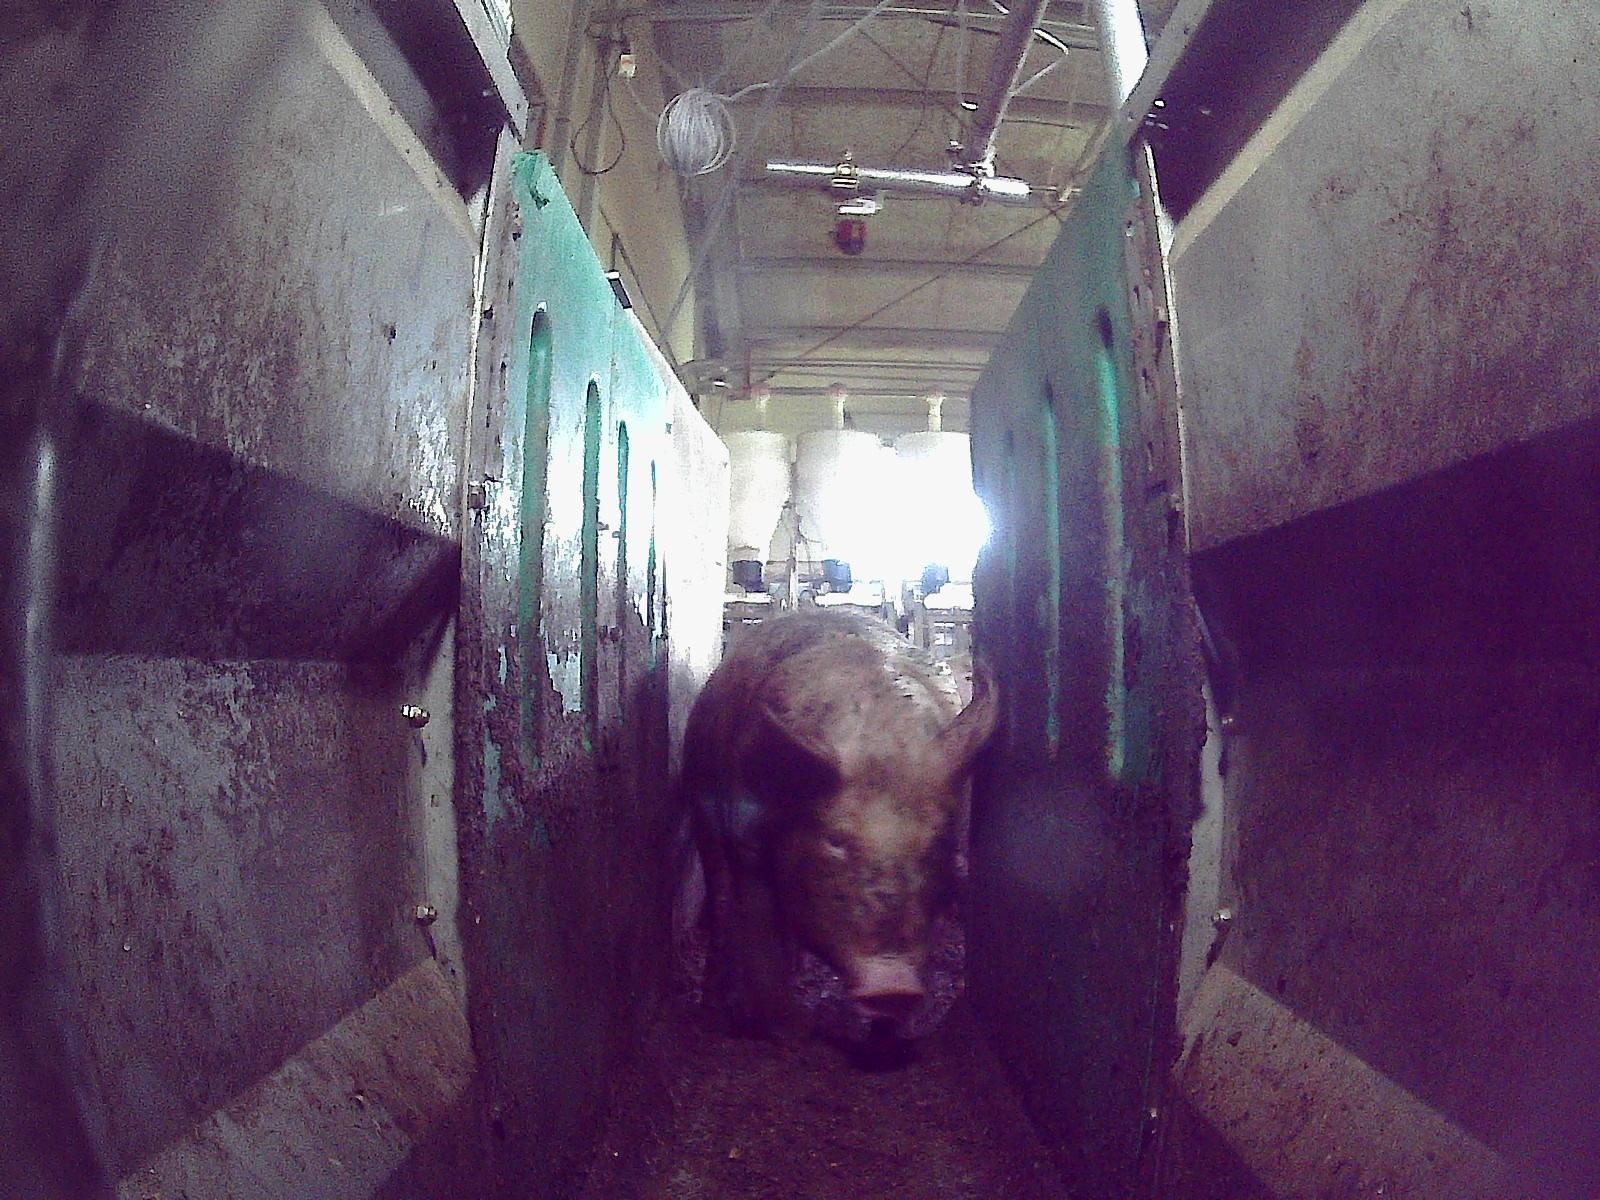Face: (765, 751, 946, 1019)
